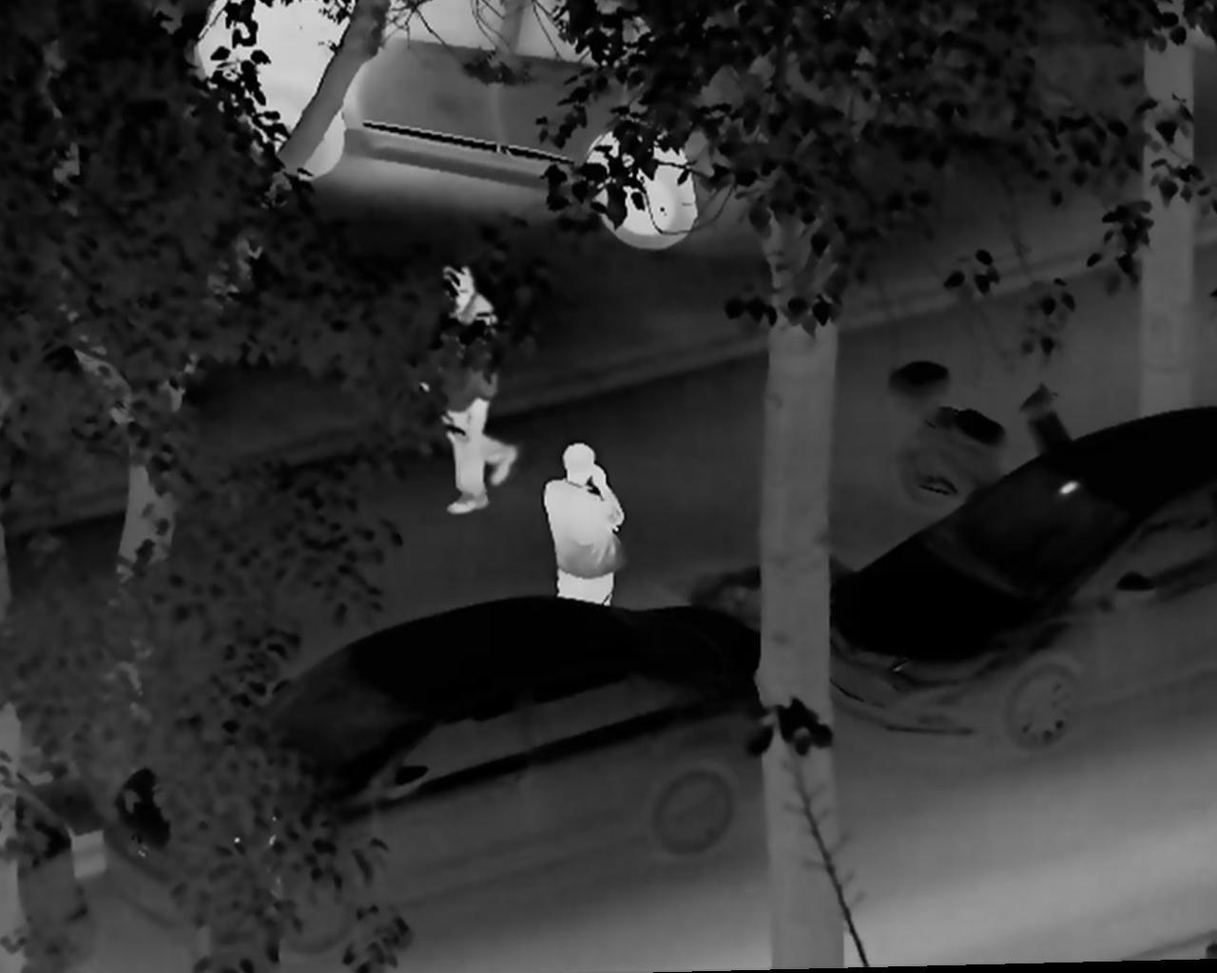person: (417, 260, 523, 520), (532, 438, 628, 615)
